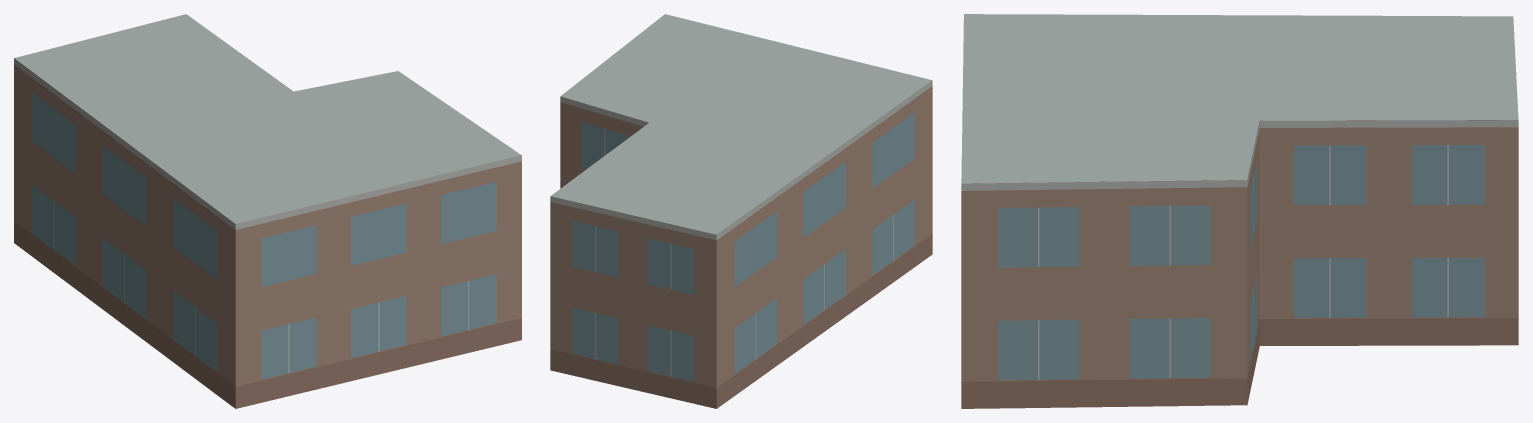
File: survey-upis-32627562.glb
3 renders of one model, left to right at view 1: azimuth 30°, elevation 25°; view 2: azimuth 150°, elevation 25°; view 3: azimuth 270°, elevation 25°, orthographic. The views are drawn at different scales.
Parts seen in each view (by area): view 1: survey-upis-32627562.tmp; view 2: survey-upis-32627562.tmp; view 3: survey-upis-32627562.tmp.
Part boxes in pixels (box(x1,y1,x2,y2)): survey-upis-32627562.tmp: box(14, 14, 521, 408); survey-upis-32627562.tmp: box(550, 14, 932, 408); survey-upis-32627562.tmp: box(961, 14, 1518, 408).
Size of the model in its own units: 12.12 by 7.5 by 16.82.
